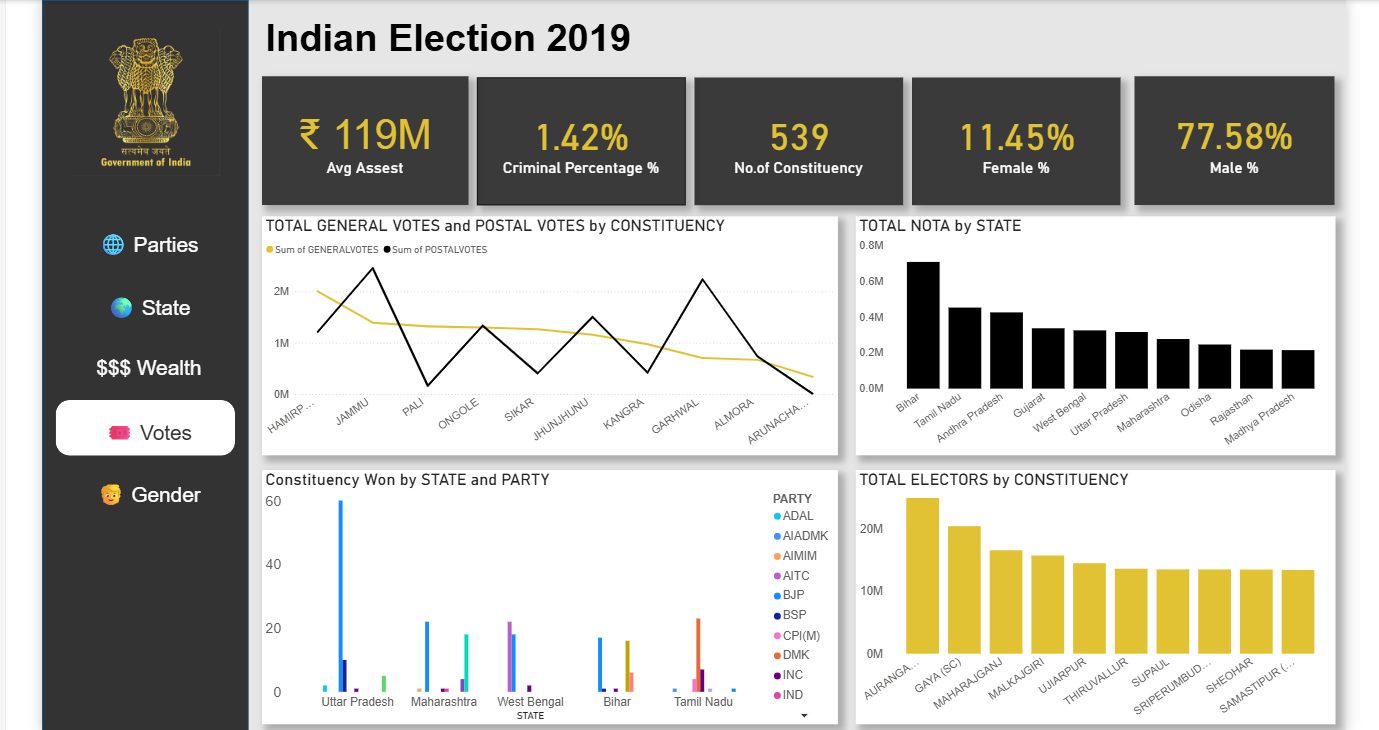

The page's visual inventory and layout, read from the dashboard file:
{"tool":"powerbi","page":{"name":"🎟️ Votes","canvas":[1920,1080],"ordinal":3},"visuals":[{"type":"clusteredColumnChart","title":"TOTAL ELECTORS by CONSTITUENCY","fields":{"Category":["Election_2019.CONSTITUENCY"],"Y":["Sum(Election_2019.TOTAL ELECTORS)"]},"box":[1197.9,691.6,706,374.6],"z":0},{"type":"clusteredColumnChart","title":"TOTAL NOTA by STATE","fields":{"Category":["Election_2019.STATE"],"Y":["Sum(Election_2019.Nota)"]},"box":[1197.9,319,706,352],"z":1},{"type":"clusteredColumnChart","fields":{"Category":["Election_2019.STATE"],"Y":["Election_2019.Constituency Won"],"Series":["Election_2019.PARTY"]},"box":[323.2,691.6,848,374.6],"z":2},{"type":"lineChart","title":"TOTAL GENERAL VOTES and POSTAL VOTES by CONSTITUENCY","fields":{"Category":["Election_2019.CONSTITUENCY"],"Y":["Sum(Election_2019.GENERALVOTES)"],"Y2":["Sum(Election_2019.POSTALVOTES)"]},"box":[323.2,319,848,352],"z":3},{"type":"shape","box":[0,0,304.1,1080.4],"z":4},{"type":"pageNavigator","box":[20.5,313.5,265,451.6],"z":5},{"type":"textbox","box":[323.9,18.4,577.9,95.7],"z":6},{"type":"card","fields":{"Values":["Election_2019.Avg Assest"]},"box":[323.9,112.3,303.7,189.6],"z":7},{"type":"card","fields":{"Values":["Election_2019.Criminal Percentage %"]},"box":[640.5,114.1,307.4,187.7],"z":8},{"type":"card","fields":{"Values":["Election_2019.No.of Constituency"]},"box":[960.7,114.1,307.4,187.7],"z":9},{"type":"card","fields":{"Values":["Election_2019.Female %"]},"box":[1281,114.1,307.4,187.7],"z":10},{"type":"card","fields":{"Values":["Election_2019.Male %"]},"box":[1608.6,112.3,294.5,189.6],"z":11},{"type":"image","box":[20.5,37.3,265,227.6],"z":12}]}

Visuals, with their boxes on the page's 1920x1080 design canvas (x1, y1, x2, y2). These are canvas units, not pixel positions in the 1379x730 screenshot, which may show the page scaled, cropped or inside an application window:
"TOTAL ELECTORS by CONSTITUENCY" clusteredColumnChart: (1198, 692, 1904, 1066)
"TOTAL NOTA by STATE" clusteredColumnChart: (1198, 319, 1904, 671)
clusteredColumnChart - Election_2019.STATE x Election_2019.Constituency Won: (323, 692, 1171, 1066)
"TOTAL GENERAL VOTES and POSTAL VOTES by CONSTITUENCY" lineChart: (323, 319, 1171, 671)
shape: (0, 0, 304, 1080)
pageNavigator: (20, 314, 286, 765)
textbox: (324, 18, 902, 114)
card - Election_2019.Avg Assest: (324, 112, 628, 302)
card - Election_2019.Criminal Percentage %: (640, 114, 948, 302)
card - Election_2019.No.of Constituency: (961, 114, 1268, 302)
card - Election_2019.Female %: (1281, 114, 1588, 302)
card - Election_2019.Male %: (1609, 112, 1903, 302)
image: (20, 37, 286, 265)
